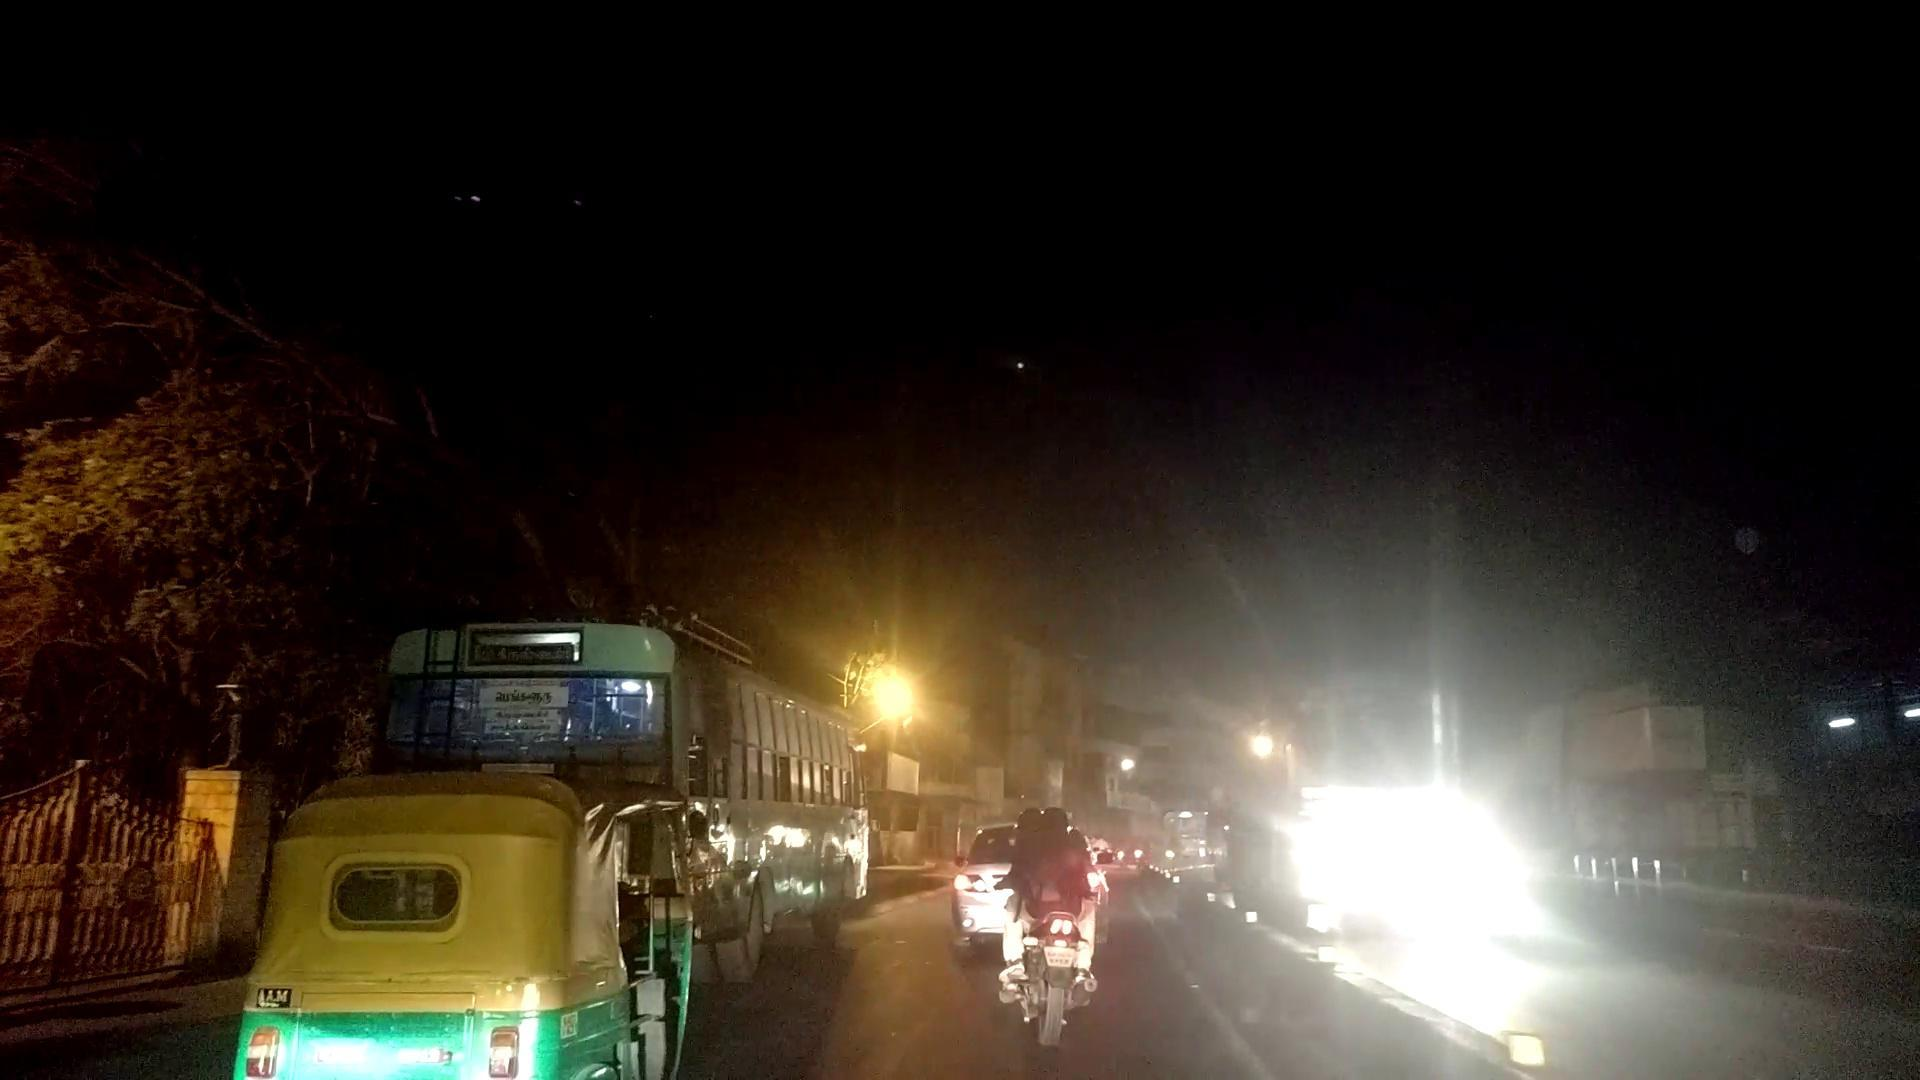on: (200, 132, 1791, 1080)
